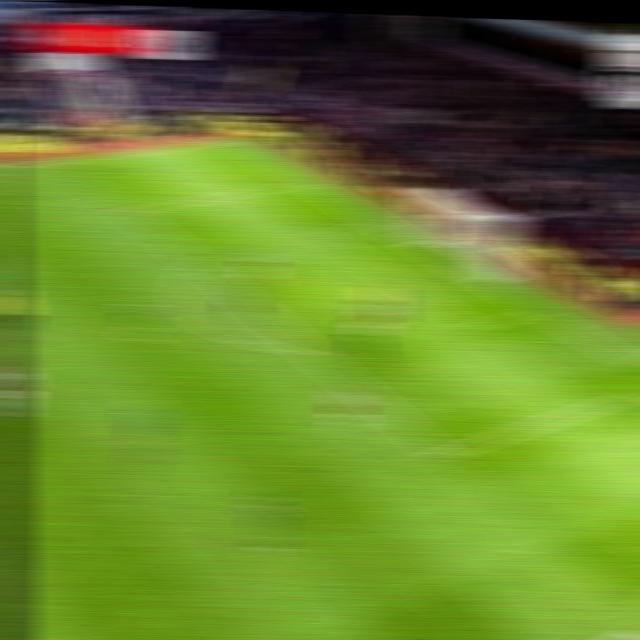bigarea_bottom_inner: (423, 441, 460, 465)
bigarea_top_inner: (110, 200, 144, 220)
bigarea_top_outter: (288, 175, 319, 189)
bottom_arc_area_intersection: (294, 342, 329, 362)
corner: (210, 132, 243, 148)
smallarea_bottom_inner: (456, 315, 491, 338)
smallarea_bottom_outter: (519, 301, 553, 319)
smallarea_top_inner: (303, 224, 336, 243)
smallarea_top_outter: (359, 214, 393, 231)
top_arc_area_intersection: (183, 257, 217, 274)
